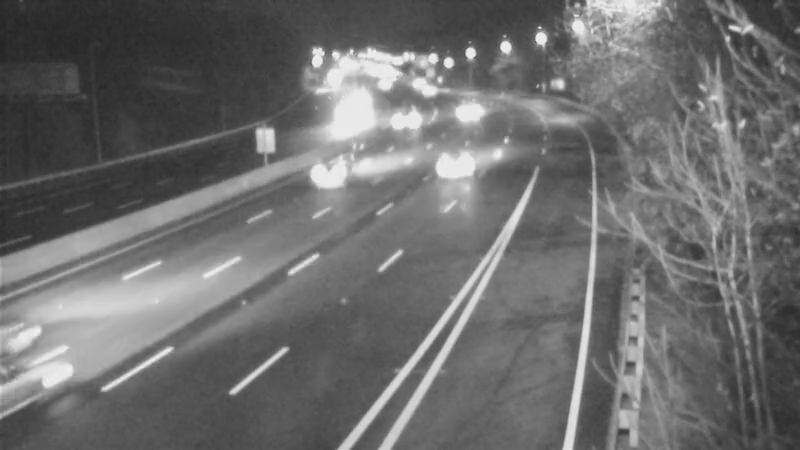vehicle: (1, 335, 94, 445), (413, 125, 493, 205), (285, 135, 365, 215), (406, 68, 456, 118), (440, 83, 490, 133), (376, 96, 426, 146)
